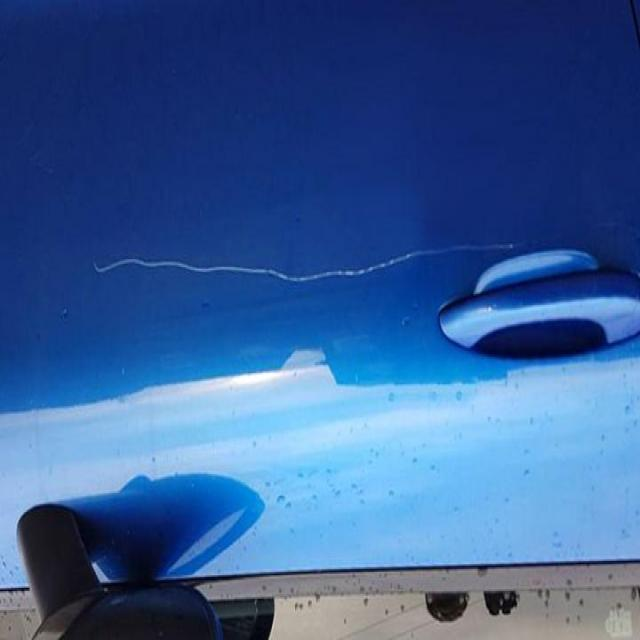scratch: (80, 219, 544, 317)
